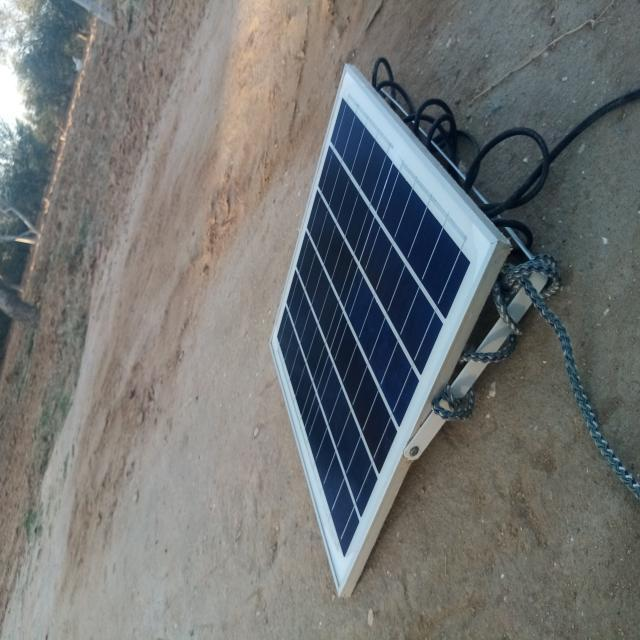Normal Solar Panel: (271, 70, 498, 589)
